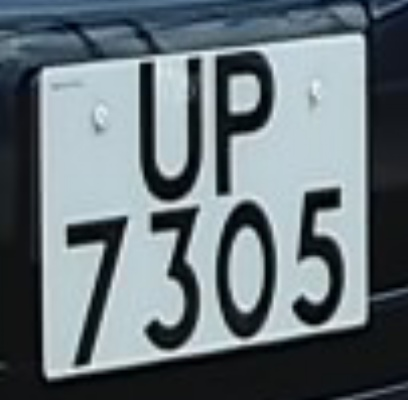0: (207, 198, 288, 346)
3: (131, 202, 215, 357)
5: (285, 186, 356, 330)
7: (53, 209, 138, 374)
P: (205, 49, 284, 192)
U: (124, 54, 215, 207)
